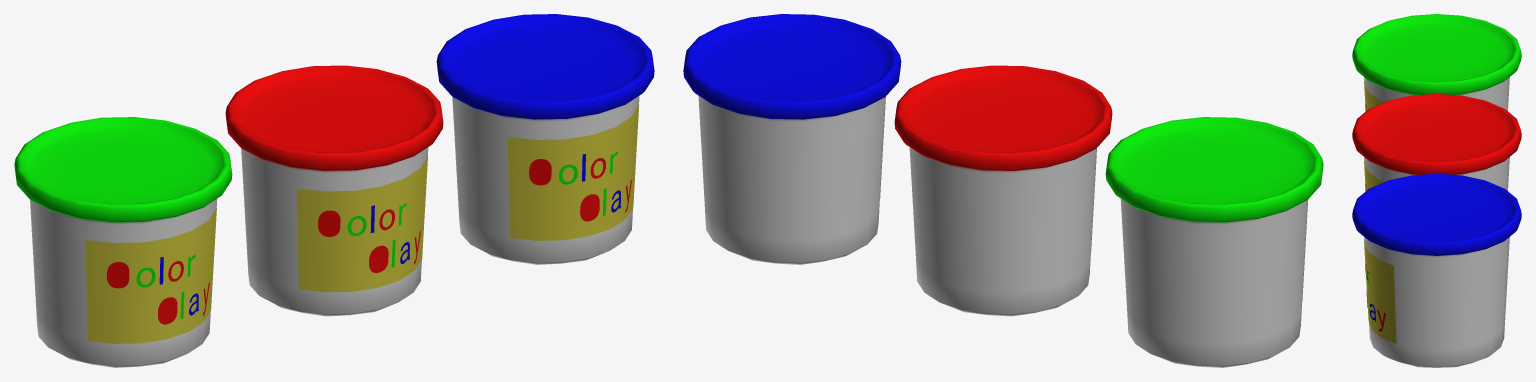
The model's file is Color_Clay_1.fbx.
The picture shows the model from 3 angles, left to right: view 1: azimuth 30°, elevation 25°; view 2: azimuth 150°, elevation 25°; view 3: azimuth 270°, elevation 25°; orthographic projection. The views are drawn at different scales.
Parts seen in each view (by area): view 1: Cap2 (×3), Body (×3), Sticker (×3), text5 (×3); view 2: Body (×3), Cap2 (×3); view 3: Cap2 (×3), Body (×3), Sticker (×3), text5.
Part boxes in pixels (x1,y1,x2,y2): Cap2 (×3): (14, 14, 654, 222); Body (×3): (30, 95, 639, 367); Sticker (×3): (85, 105, 639, 343); text5 (×3): (106, 151, 631, 324); Body (×3): (698, 95, 1307, 367); Cap2 (×3): (683, 14, 1323, 222); Cap2 (×3): (1352, 14, 1521, 255); Body (×3): (1364, 77, 1509, 367); Sticker (×3): (1364, 81, 1396, 344); text5: (1365, 263, 1385, 331).
Size of the model in its own units: 1.88 by 0.5165 by 0.5835.
